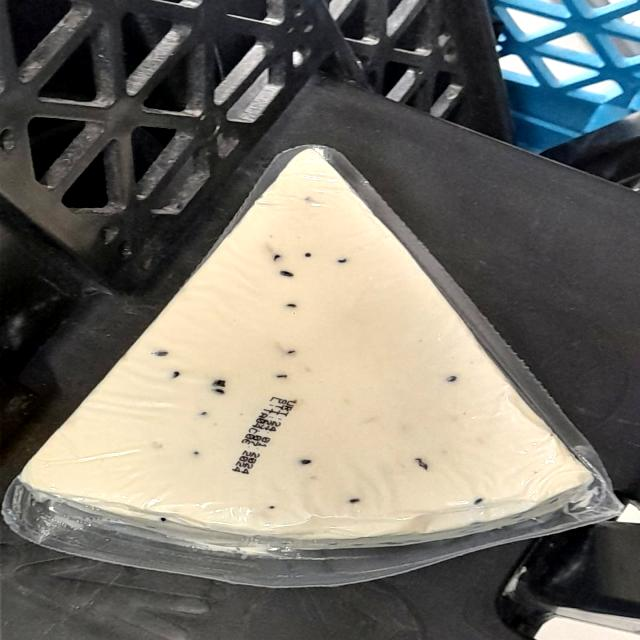cheese: (82, 161, 546, 563)
